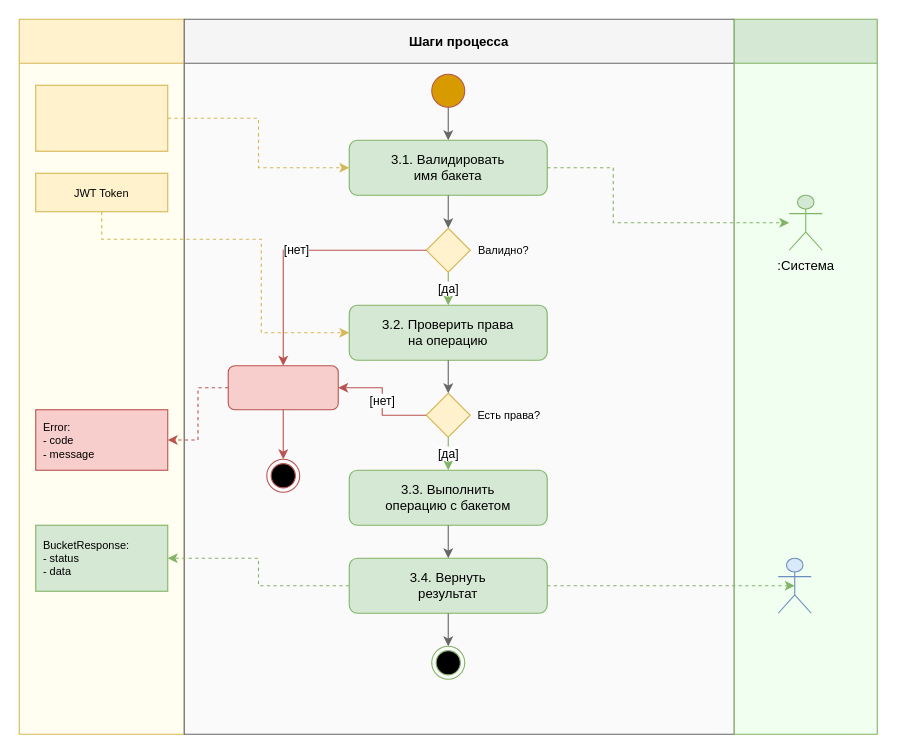
This 897x754 diagram has some shape labels left out. The box of each missing label's shape, as (x1, y1, x2, y2) in pixels:
:Пользователь: (777, 557, 811, 613)
BucketRequest: - name - operation: (35, 84, 168, 151)
Вернуть ошибку: (227, 365, 338, 410)
Входные/выходные объекты: (18, 18, 184, 734)
Участники: (733, 18, 877, 734)
